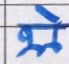o_matra: (48, 13, 62, 54)
